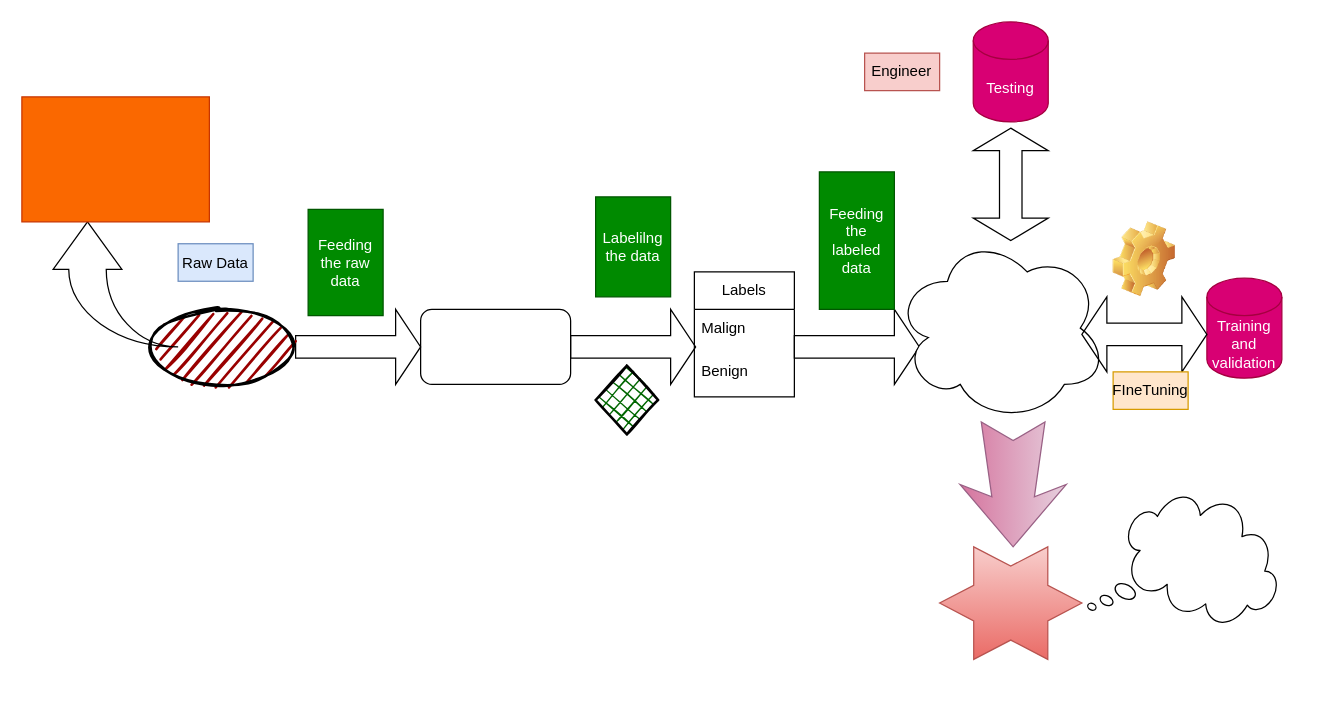
Image size: 1325x704. Some labels were removed from this diagram. Each missing label, with the centre of its shape:
"bin,exe,dll,obj,o files extensions" belongs at (115,159).
"Cloud Hosted tool" belongs at (1193,574).
"Curing data" belongs at (495,346).
"HawkSec" belongs at (1010,602).
"LLM model" belongs at (1000,327).
